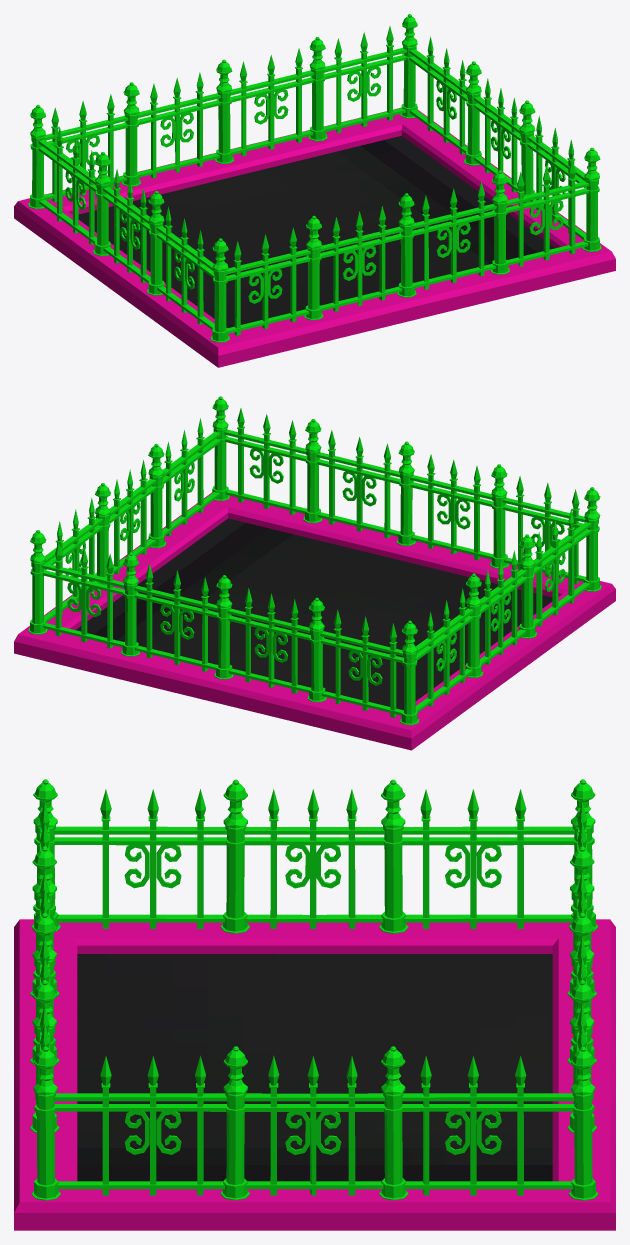
File: City_Fence09.fbx
The picture shows the model from 3 angles, top to bottom: view 1: azimuth 30°, elevation 25°; view 2: azimuth 150°, elevation 25°; view 3: azimuth 270°, elevation 25°; orthographic projection. The views are drawn at different scales.
Parts seen in each view (by area): view 1: SM_City_Fence_04_Divider_01f.mo; view 2: SM_City_Fence_04_Divider_01f.mo; view 3: SM_City_Fence_04_Divider_01f.mo.
Boxes of the visible parts, <box> form: SM_City_Fence_04_Divider_01f.mo: <box>14,14,615,367</box>; SM_City_Fence_04_Divider_01f.mo: <box>14,396,615,750</box>; SM_City_Fence_04_Divider_01f.mo: <box>14,779,615,1230</box>.
Size of the model in its own units: 396 by 113 by 352.
